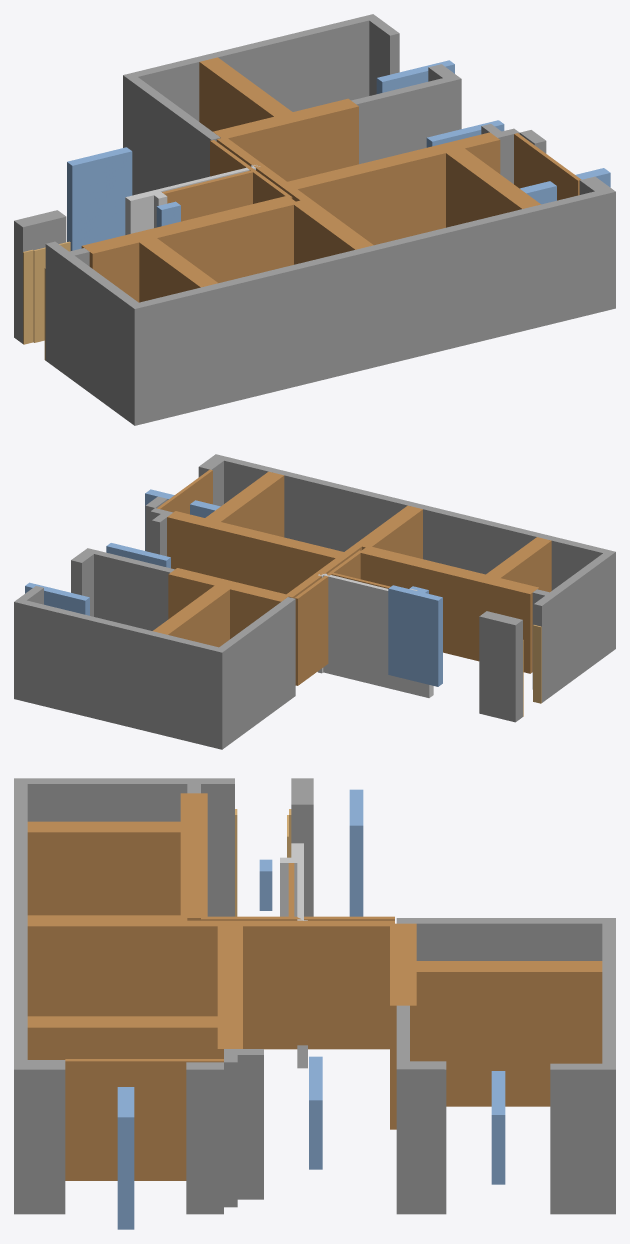
Rendered from output_full.glb.
The picture shows the model from 3 angles, top to bottom: view 1: azimuth 30°, elevation 25°; view 2: azimuth 150°, elevation 25°; view 3: azimuth 270°, elevation 25°; orthographic projection. The views are drawn at different scales.
Parts seen in each view (by area): view 1: 承重墙_000, 承重墙_004, 梁_008, 梁_003, 承重墙_007, 承重墙_003, 梁_013, 窗_004, 梁_011, 梁_015, 梁_000, 承重墙_005 (+19 smaller); view 2: 承重墙_004, 承重墙_000, 梁_004, 梁_009, 承重墙_007, 可拆墙_000, 承重墙_003, 窗_004, 承重墙_005, 梁_002, 梁_014, 梁_011 (+17 smaller); view 3: 梁_001, 承重墙_000, 梁_016, 承重墙_004, 梁_007, 梁_012, 承重墙_003, 梁_010, 承重墙_002, 承重墙_001, 承重墙_007, 窗_001 (+18 smaller).
Boxes of the visible parts, left/top/right/bottom form: 承重墙_000: left=45, top=176, right=615, bottom=425; 承重墙_004: left=123, top=14, right=399, bottom=195; 梁_008: left=290, top=136, right=500, bottom=245; 梁_003: left=87, top=199, right=297, bottom=302; 承重墙_007: left=45, top=242, right=164, bottom=425; 承重墙_003: left=351, top=64, right=461, bottom=164; 梁_013: left=218, top=102, right=358, bottom=181; 窗_004: left=67, top=147, right=132, bottom=250; 梁_011: left=443, top=149, right=531, bottom=227; 梁_015: left=199, top=59, right=283, bottom=131; 梁_000: left=162, top=170, right=254, bottom=221; 承重墙_005: left=14, top=210, right=66, bottom=343; 承重墙_004: left=14, top=586, right=295, bottom=749; 承重墙_000: left=198, top=454, right=615, bottom=702; 梁_004: left=360, top=549, right=534, bottom=673; 梁_009: left=167, top=514, right=342, bottom=594; 承重墙_007: left=532, top=546, right=615, bottom=700; 可拆墙_000: left=317, top=573, right=433, bottom=697; 承重墙_003: left=71, top=548, right=174, bottom=630; 窗_004: left=388, top=585, right=442, bottom=686; 承重墙_005: left=479, top=611, right=522, bottom=722; 梁_002: left=294, top=550, right=362, bottom=685; 梁_014: left=168, top=571, right=285, bottom=638; 梁_011: left=213, top=473, right=284, bottom=537; 梁_001: left=27, top=920, right=394, bottom=1045; 承重墙_000: left=14, top=778, right=234, bottom=1214; 梁_016: left=410, top=966, right=602, bottom=1106; 承重墙_004: left=396, top=918, right=615, bottom=1214; 梁_007: left=27, top=827, right=187, bottom=915; 梁_012: left=65, top=1059, right=223, bottom=1180; 承重墙_003: left=396, top=1005, right=446, bottom=1214; 梁_010: left=27, top=1022, right=223, bottom=1059; 承重墙_002: left=224, top=1049, right=263, bottom=1207; 承重墙_001: left=186, top=1062, right=223, bottom=1214; 承重墙_007: left=14, top=778, right=234, bottom=916; 窗_001: left=117, top=1087, right=134, bottom=1229.
Size of the model in its own units: 12.89 by 3.41 by 10.47.
